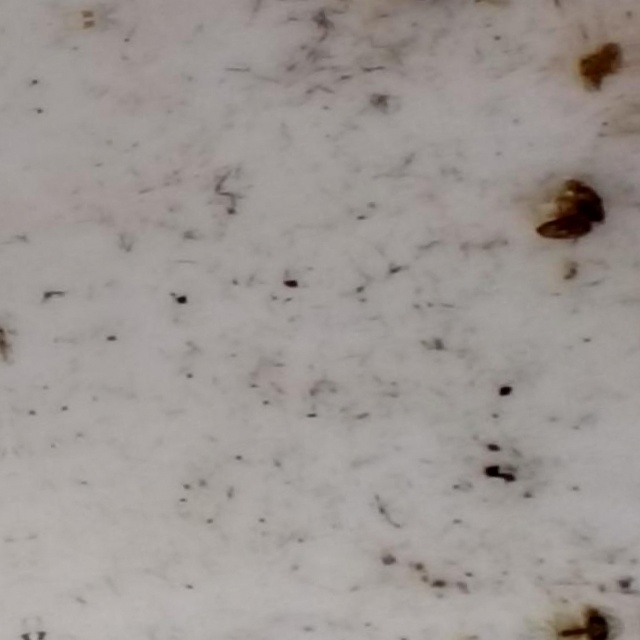varroa: (533, 209, 593, 246)
